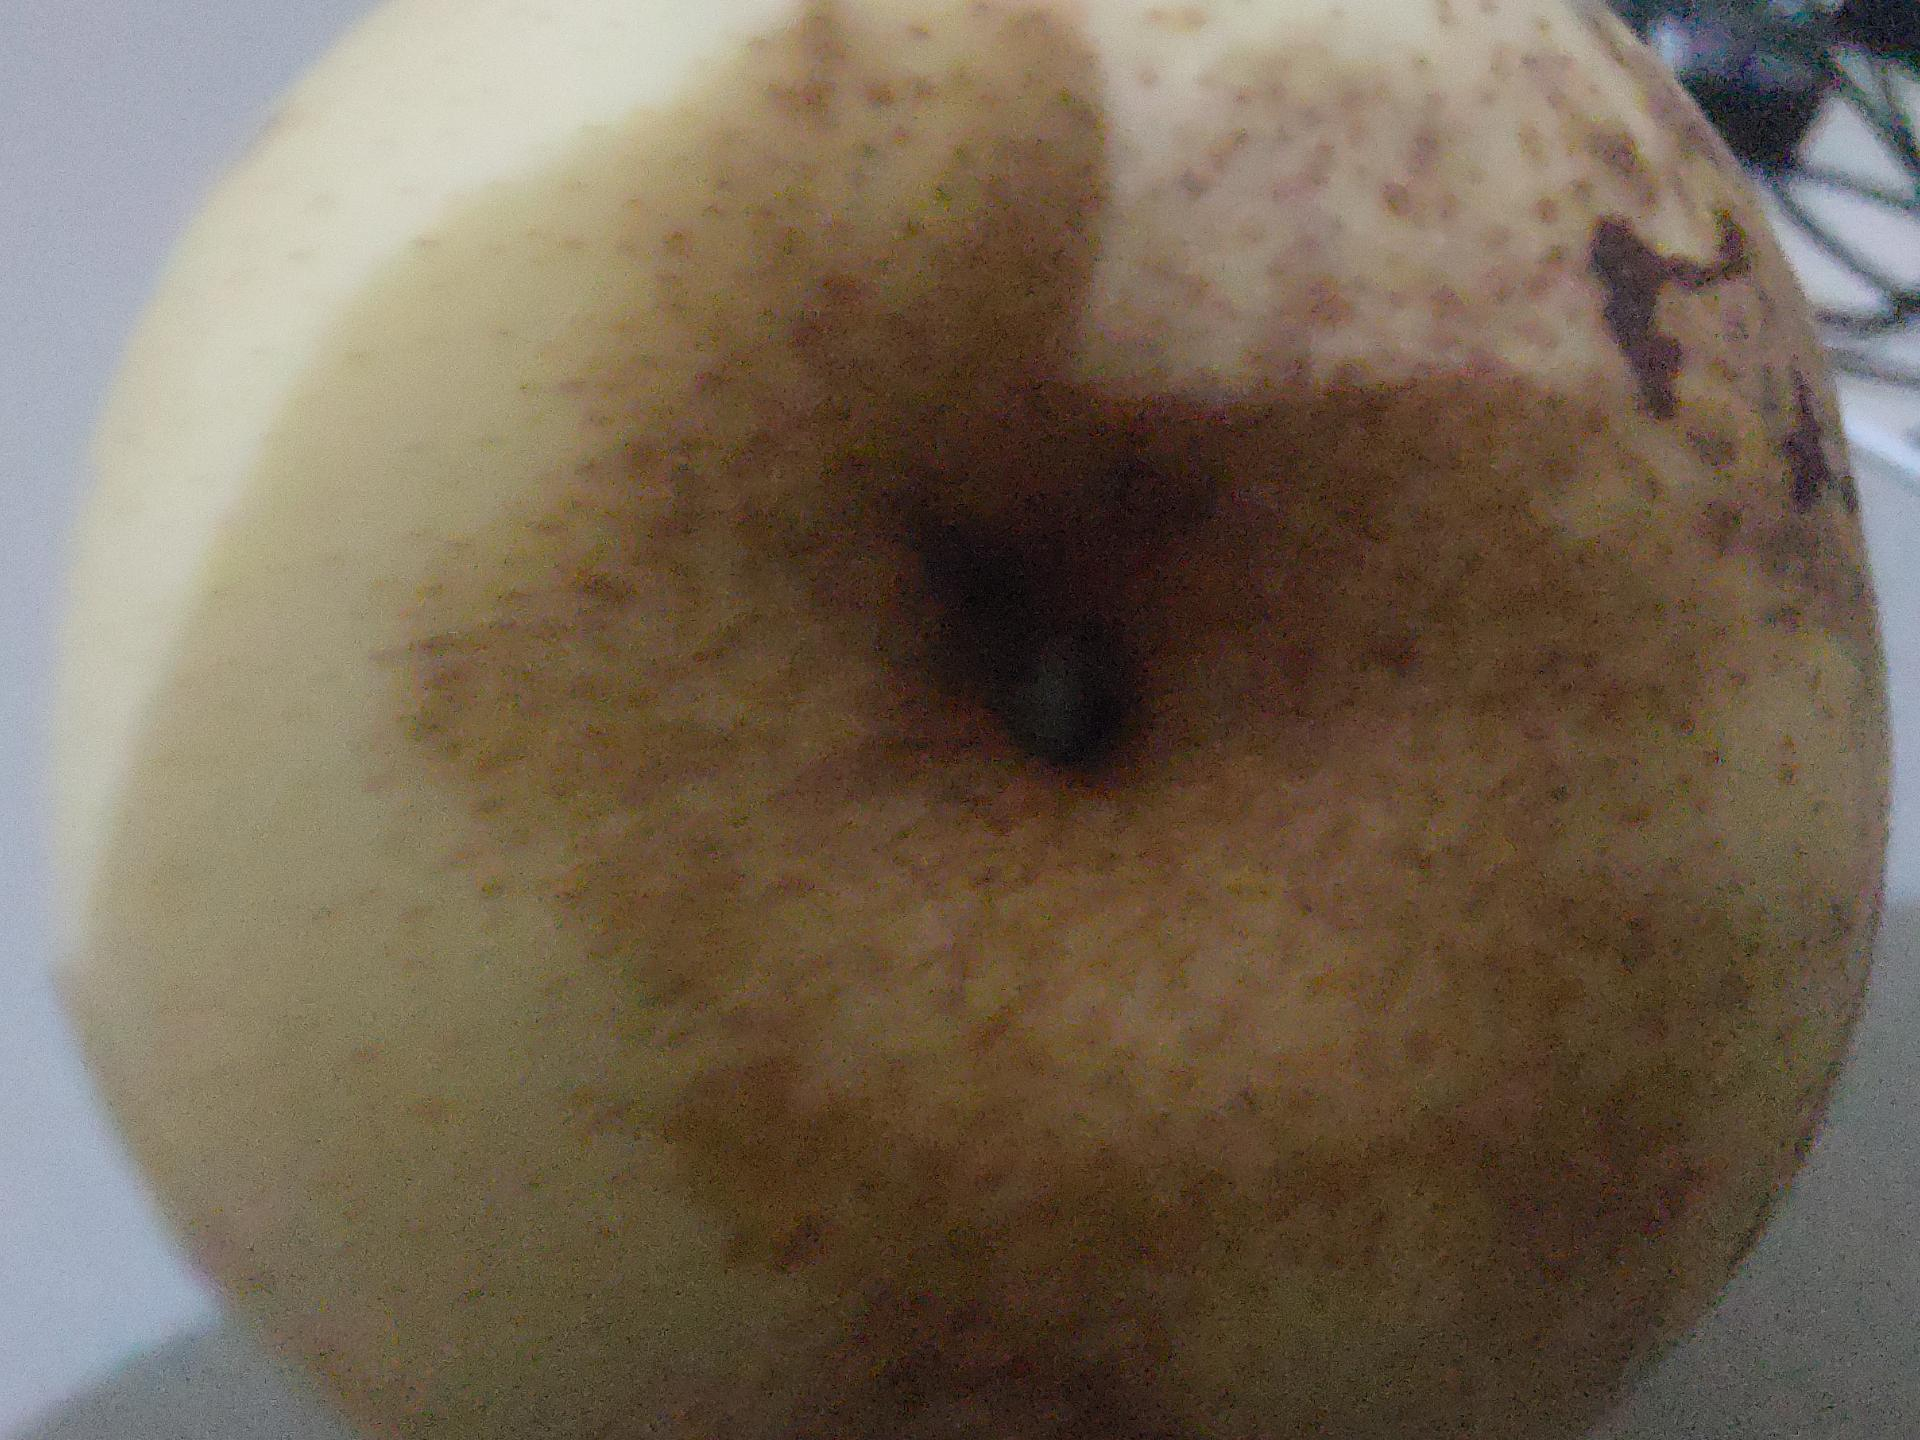Bad Pear: (36, 0, 1903, 1440)
